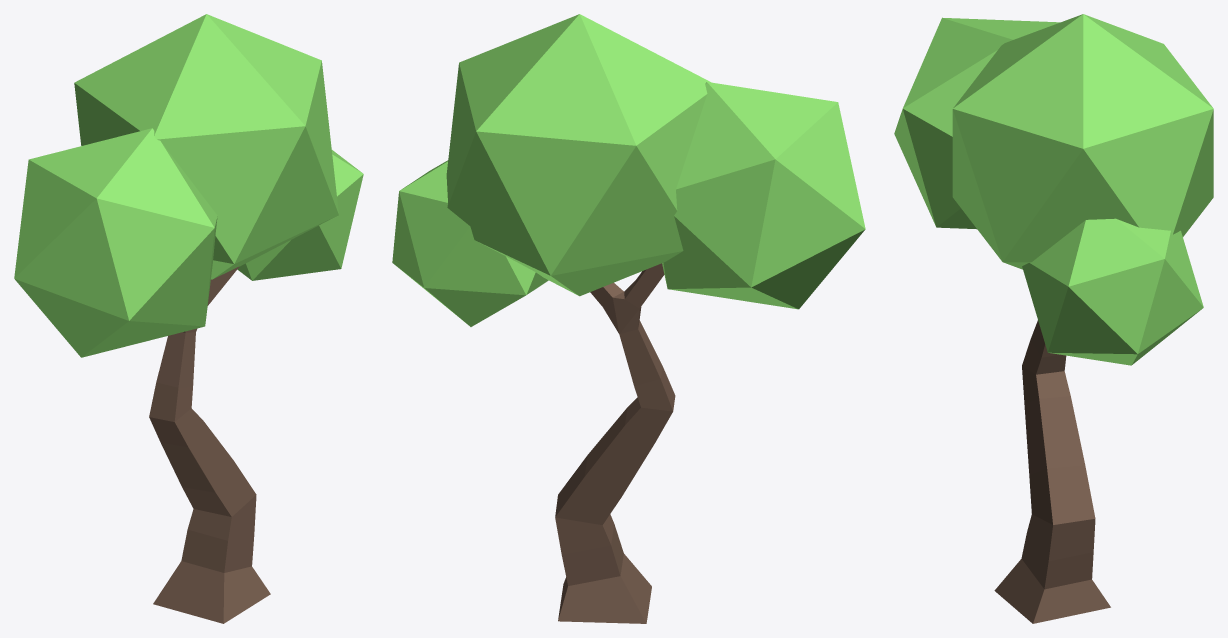
File: tree_1.fbx
The picture shows the model from 3 angles, left to right: view 1: azimuth 30°, elevation 25°; view 2: azimuth 150°, elevation 25°; view 3: azimuth 270°, elevation 25°; orthographic projection. The views are drawn at different scales.
Parts seen in each view (by area): view 1: tree1; view 2: tree1; view 3: tree1.
Part boxes in pixels (x1,y1,x2,y2): tree1: (14, 14, 363, 623); tree1: (392, 14, 865, 623); tree1: (894, 14, 1213, 623).
Size of the model in its own units: 2.66 by 1.86 by 3.78.
